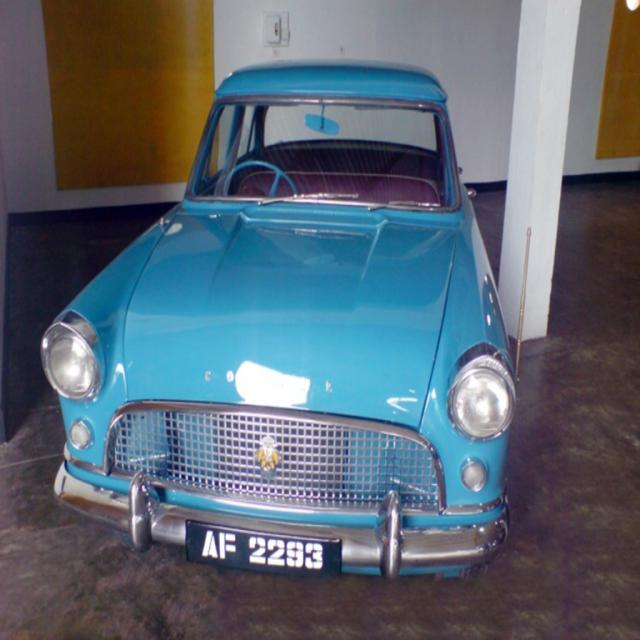car: (41, 55, 530, 580)
